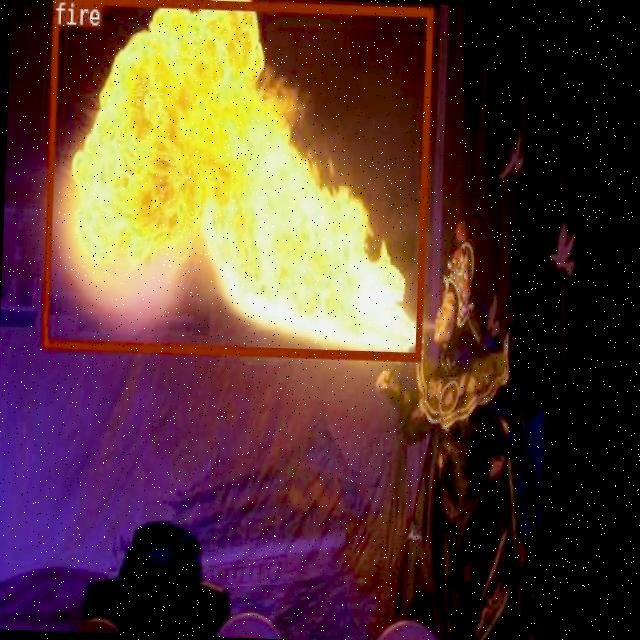fire: (40, 0, 431, 359)
